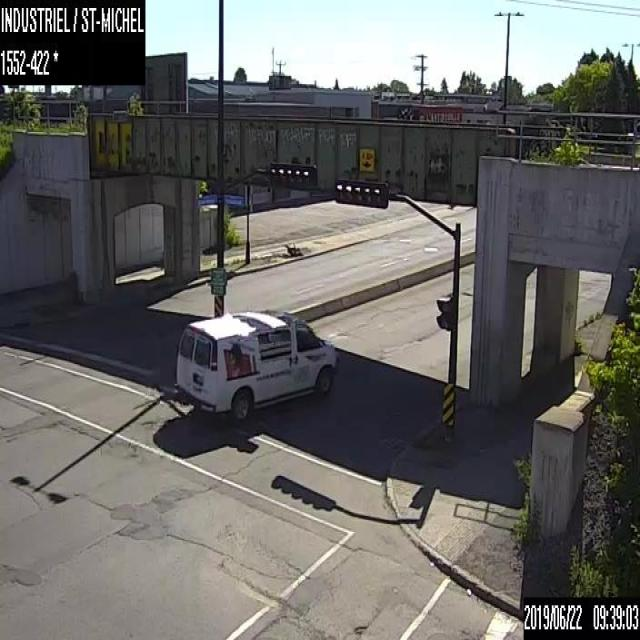vehicle: (172, 307, 335, 422)
